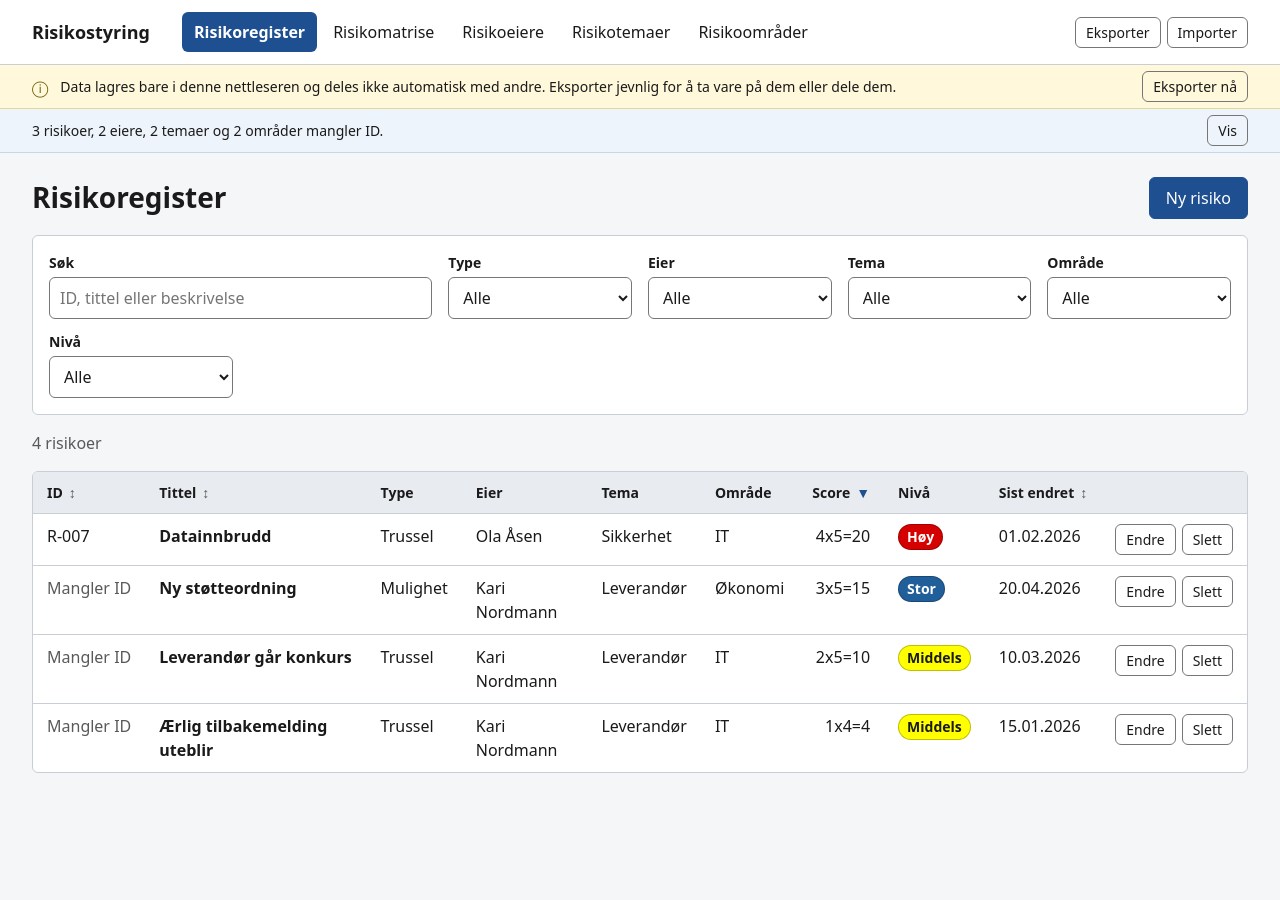
Test: risikotabell (K3–K5) › endring › åpner skjemaet med risikoens verdier og lagrer endringen
The width and height of the screenshot is (1280, 900).
Expected: the heading "Risikoregister" is shown, [32,181,226,215]
Click the button with aria-label "Endre Datainnbrudd" at point(1145, 540), box [1115,524,1176,555]
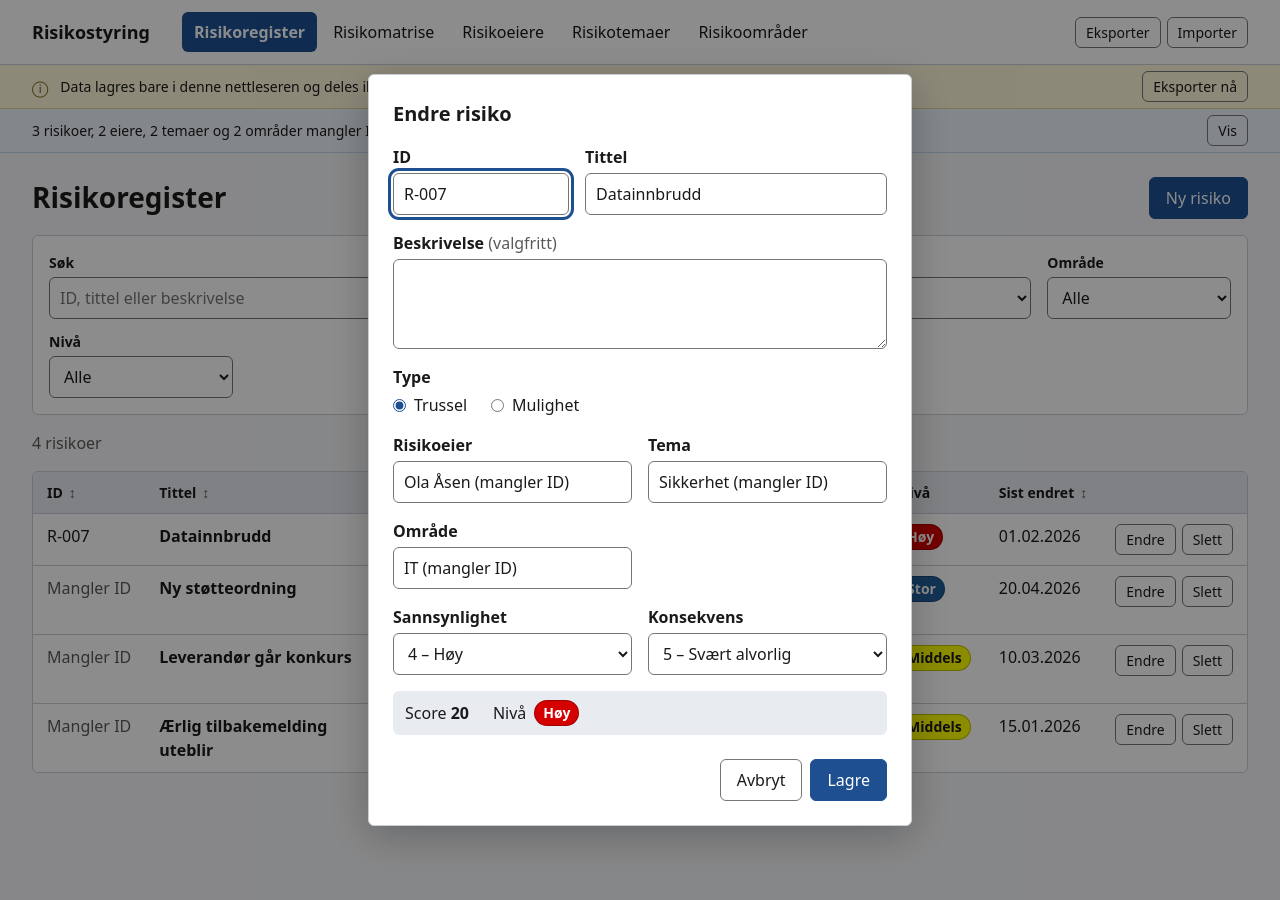
Expected: the field labelled "Tittel" holds "Datainnbrudd", [585,173,887,215]
Expected: the field labelled "ID" holds "R-007", [393,173,569,215]
Select "1 – Svært lav" in the dropdown labelled "Sannsynlighet" at point(512, 654), box [393,633,632,675]
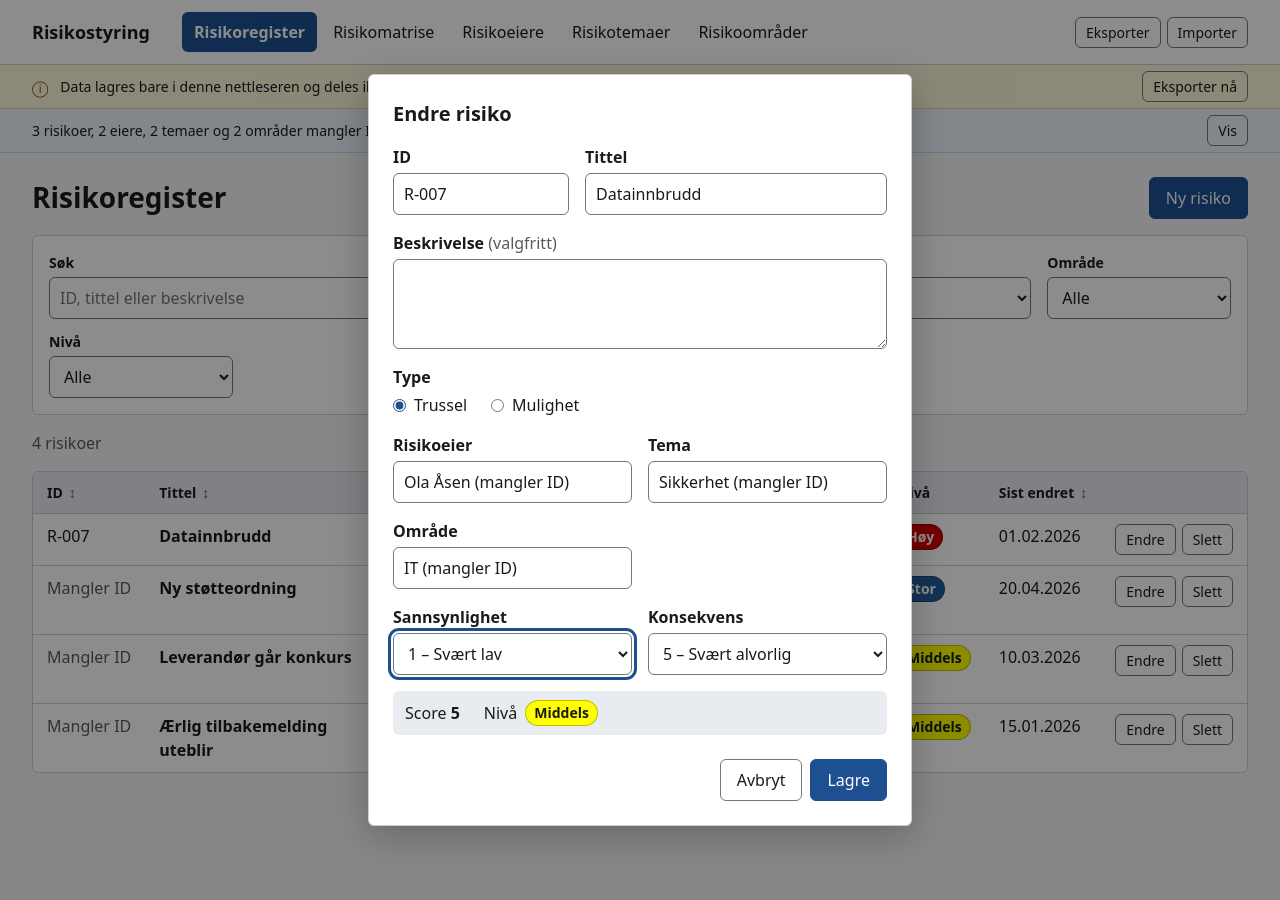
Click the button "Lagre" at point(849, 780), box [810,759,887,801]
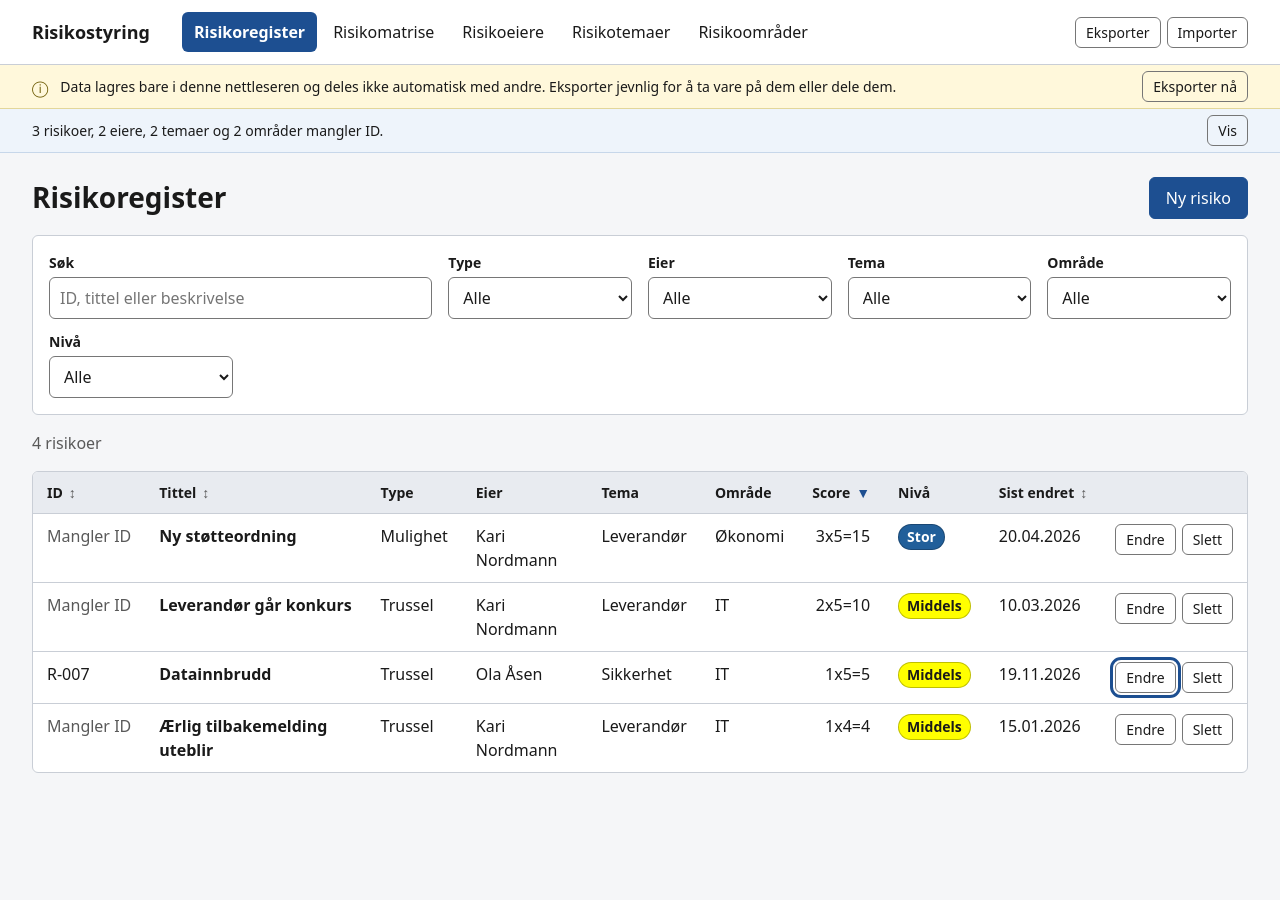
Expected: the dialog is gone
